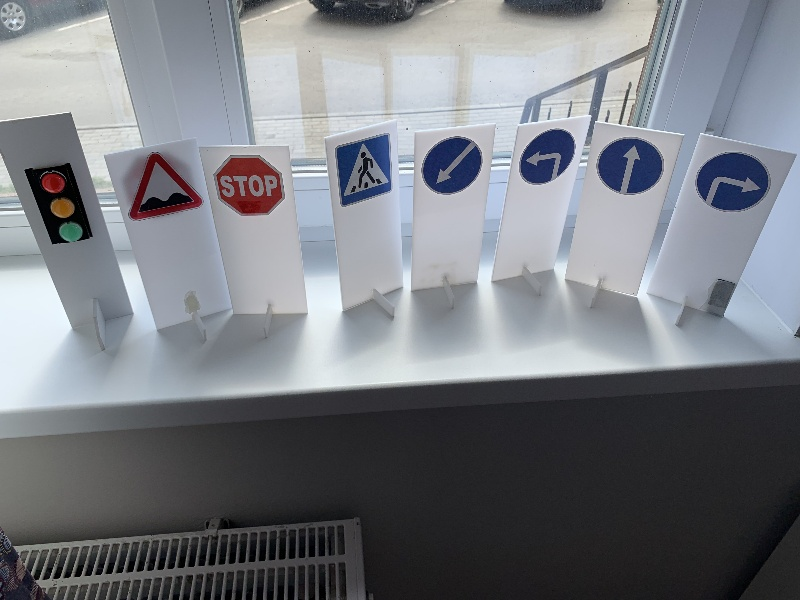Left: (519, 125, 577, 186)
Nerov: (128, 154, 205, 218)
Right: (696, 151, 772, 213)
Stop: (214, 153, 286, 219)
forw: (595, 138, 664, 194)
pesh: (338, 132, 394, 208)
prep: (422, 136, 480, 194)
